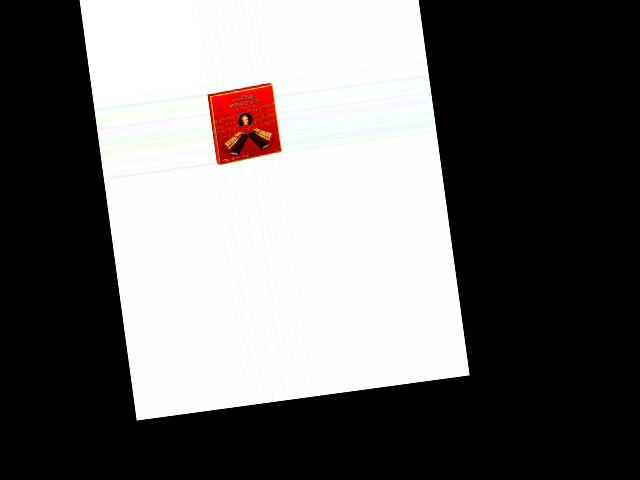chocolate: (206, 83, 284, 167)
